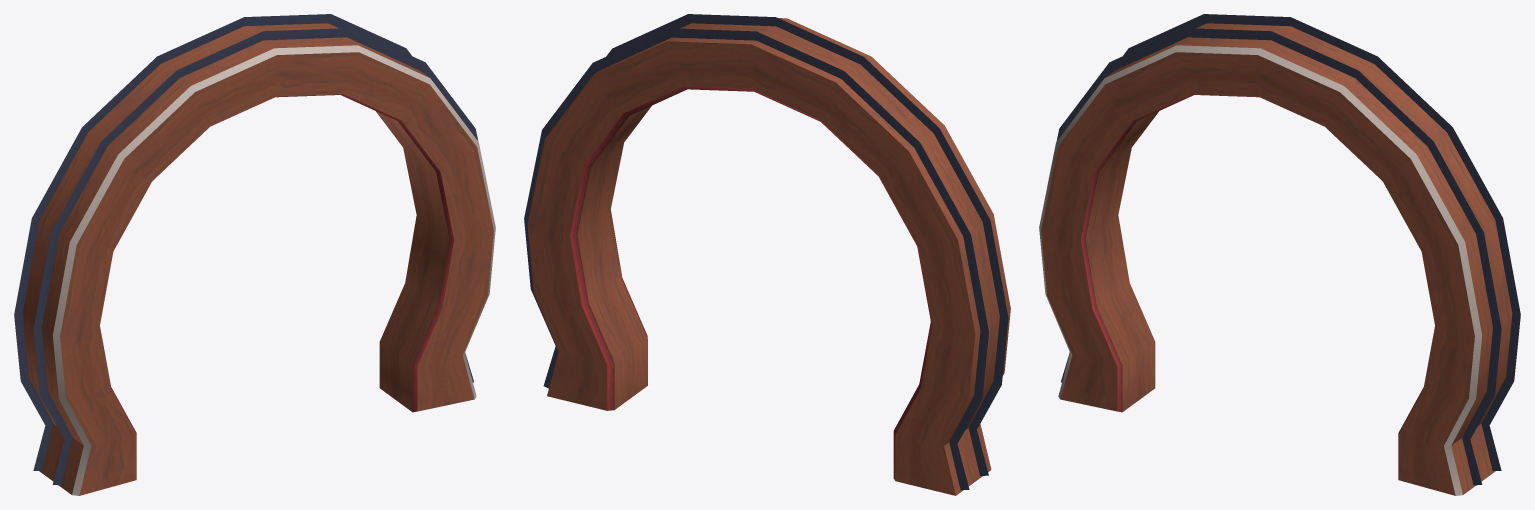
File: Door_Art.fbx
The picture shows the model from 3 angles, left to right: view 1: azimuth 30°, elevation 25°; view 2: azimuth 150°, elevation 25°; view 3: azimuth 330°, elevation 25°; orthographic projection.
Parts seen in each view (by area): view 1: Door_Art; view 2: Door_Art; view 3: Door_Art.
Part boxes in pixels (x1,y1,x2,y2): Door_Art: (14, 14, 495, 495); Door_Art: (524, 14, 1010, 495); Door_Art: (1039, 14, 1520, 495).
Bounding box in the file's own units: 6.72 × 5.68 × 0.9586.
